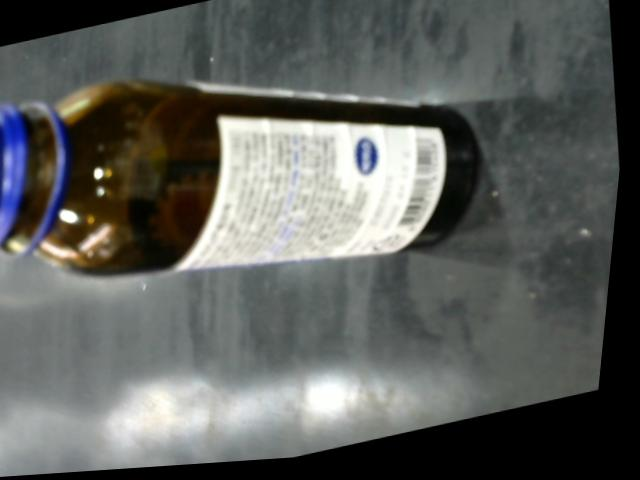glass: (0, 76, 493, 286)
